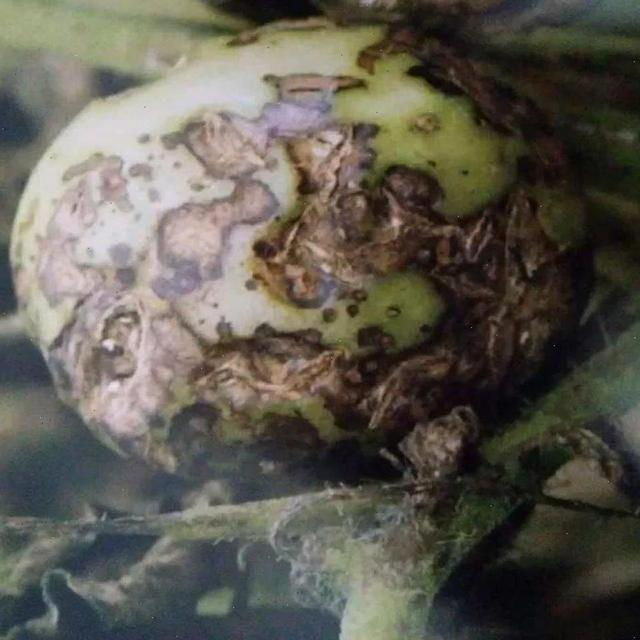Spotted wilt Virus Fruit: (5, 14, 391, 324)
